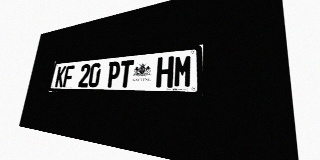0: (88, 63, 101, 87)
2: (78, 64, 91, 87)
F: (62, 65, 75, 87)
H: (156, 56, 174, 88)
K: (54, 66, 66, 87)
M: (173, 54, 193, 88)
P: (106, 61, 121, 87)
T: (118, 60, 134, 87)
